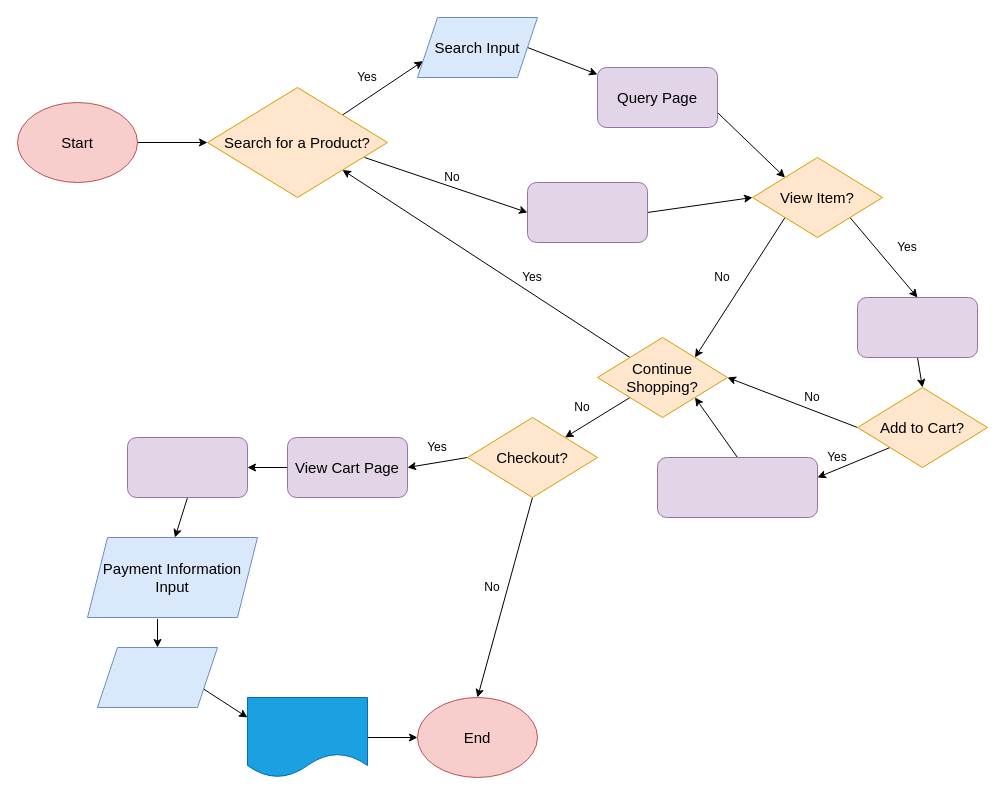
The diagram is 1005 pixels wide and 795 high, and some of its shapes have lost their labels. Here are the shapes that lost their labels. From the top down, the box of each, then its label:
(526, 182, 648, 242): Home Page
(856, 296, 978, 358): Product Page
(126, 436, 248, 498): View Payment Page
(656, 456, 818, 518): Cart Confirmation
(96, 646, 218, 708): Send Email
(246, 696, 368, 778): Order Confirmation Page
